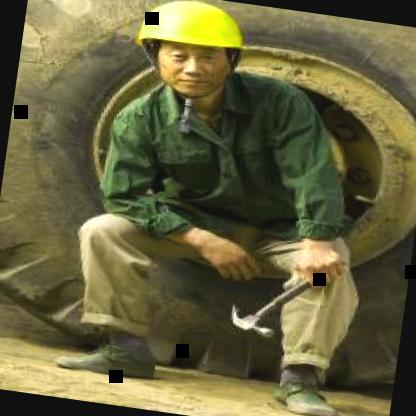helmet: (119, 0, 265, 111)
